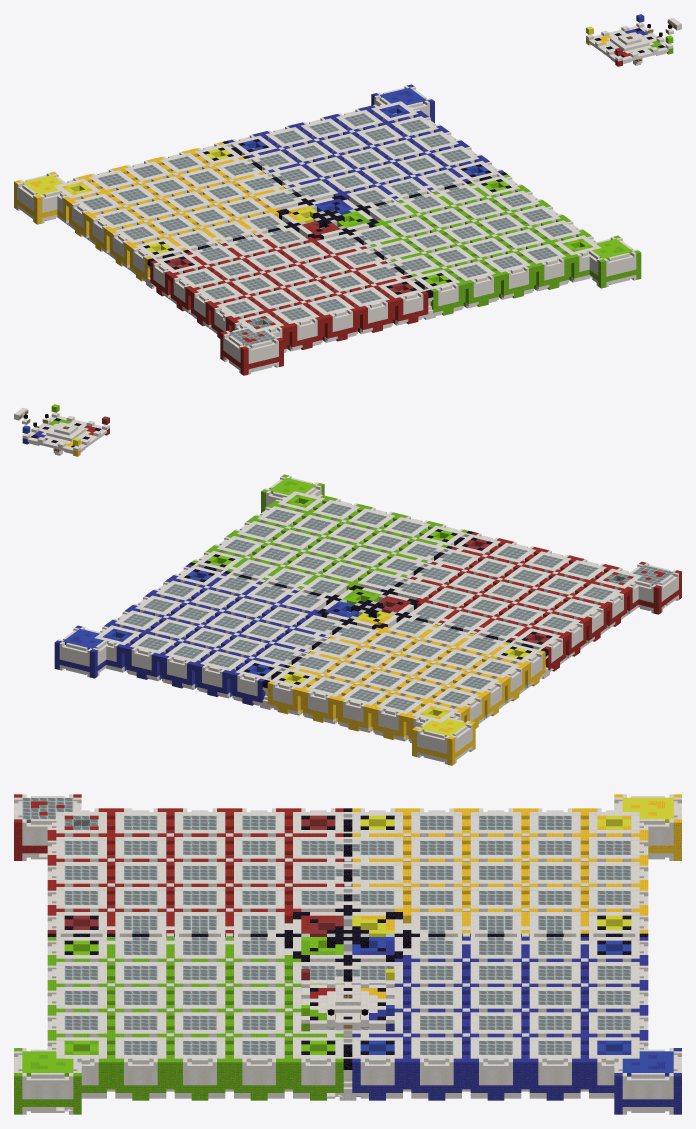
File: minecraft.obj
3 renders of one model, top to bottom at view 1: azimuth 30°, elevation 25°; view 2: azimuth 150°, elevation 25°; view 3: azimuth 270°, elevation 25°, orthographic. The views are drawn at different scales.
Bounding box in the file's own units: 109 × 26 × 79.
